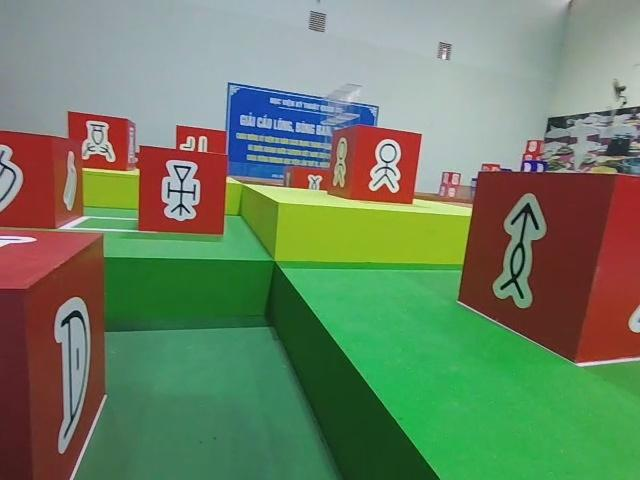R2 Real: (457, 170, 640, 365), (0, 230, 105, 480), (137, 145, 226, 237), (0, 128, 83, 226), (328, 126, 421, 205), (67, 112, 135, 169)
